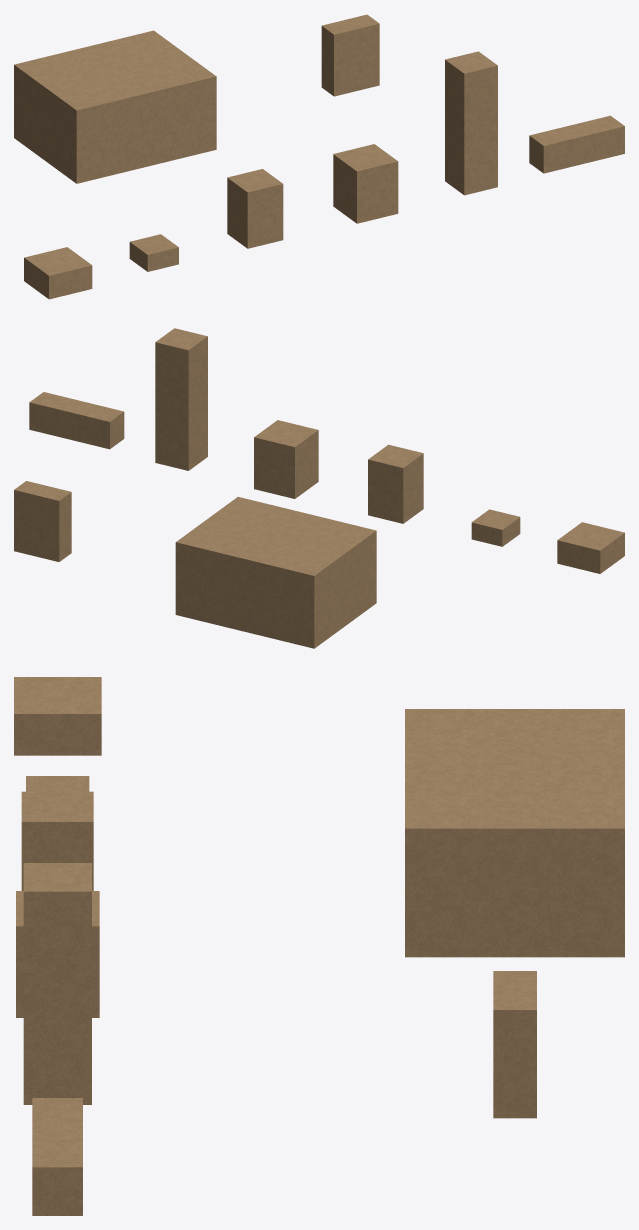
The model's file is PROJECT_Z_Loot_Collision_Proxies.glb.
3 views of the same model, one above another, from view 1: azimuth 30°, elevation 25°; view 2: azimuth 150°, elevation 25°; view 3: azimuth 270°, elevation 25° (orthographic). The views are drawn at different scales.
Parts seen in each view (by area): view 1: UCX_07_Emergency_Medkit_00, UCX_05_Water_Bottle_500mL_00, UCX_04_Canned_Stew_390g_00, UCX_08_AA_Battery_4Pack_00, UCX_03_Canned_Beans_410g_00, UCX_06_Flashlight_F160_00, UCX_01_Bandage_Roll_90mm_00, UCX_02_Bandage_Roll_65mm_00; view 2: UCX_07_Emergency_Medkit_00, UCX_05_Water_Bottle_500mL_00, UCX_04_Canned_Stew_390g_00, UCX_08_AA_Battery_4Pack_00, UCX_03_Canned_Beans_410g_00, UCX_06_Flashlight_F160_00, UCX_01_Bandage_Roll_90mm_00, UCX_02_Bandage_Roll_65mm_00; view 3: UCX_07_Emergency_Medkit_00, UCX_05_Water_Bottle_500mL_00, UCX_01_Bandage_Roll_90mm_00, UCX_08_AA_Battery_4Pack_00, UCX_06_Flashlight_F160_00, UCX_03_Canned_Beans_410g_00, UCX_04_Canned_Stew_390g_00, UCX_02_Bandage_Roll_65mm_00.
Boxes of the visible parts, bbox=[...] form: UCX_07_Emergency_Medkit_00: bbox=[14, 30, 216, 183]; UCX_05_Water_Bottle_500mL_00: bbox=[445, 51, 497, 195]; UCX_04_Canned_Stew_390g_00: bbox=[333, 144, 398, 223]; UCX_08_AA_Battery_4Pack_00: bbox=[321, 14, 379, 96]; UCX_03_Canned_Beans_410g_00: bbox=[227, 169, 283, 248]; UCX_06_Flashlight_F160_00: bbox=[529, 115, 624, 173]; UCX_01_Bandage_Roll_90mm_00: bbox=[24, 247, 92, 299]; UCX_02_Bandage_Roll_65mm_00: bbox=[129, 234, 178, 271]; UCX_07_Emergency_Medkit_00: bbox=[175, 497, 376, 648]; UCX_05_Water_Bottle_500mL_00: bbox=[155, 328, 207, 470]; UCX_04_Canned_Stew_390g_00: bbox=[254, 420, 318, 498]; UCX_08_AA_Battery_4Pack_00: bbox=[14, 481, 71, 561]; UCX_03_Canned_Beans_410g_00: bbox=[368, 444, 423, 523]; UCX_06_Flashlight_F160_00: bbox=[29, 392, 124, 449]; UCX_01_Bandage_Roll_90mm_00: bbox=[557, 522, 624, 573]; UCX_02_Bandage_Roll_65mm_00: bbox=[471, 509, 520, 546]; UCX_07_Emergency_Medkit_00: bbox=[405, 709, 624, 957]; UCX_05_Water_Bottle_500mL_00: bbox=[23, 863, 91, 1104]; UCX_01_Bandage_Roll_90mm_00: bbox=[14, 677, 101, 755]; UCX_08_AA_Battery_4Pack_00: bbox=[493, 971, 536, 1118]; UCX_06_Flashlight_F160_00: bbox=[32, 1098, 82, 1215]; UCX_03_Canned_Beans_410g_00: bbox=[21, 791, 93, 890]; UCX_04_Canned_Stew_390g_00: bbox=[16, 891, 99, 1017]; UCX_02_Bandage_Roll_65mm_00: bbox=[26, 776, 89, 791].
Bounding box in the file's own units: 1.21 × 0.242 × 0.628.
1 material, 1 textured.
